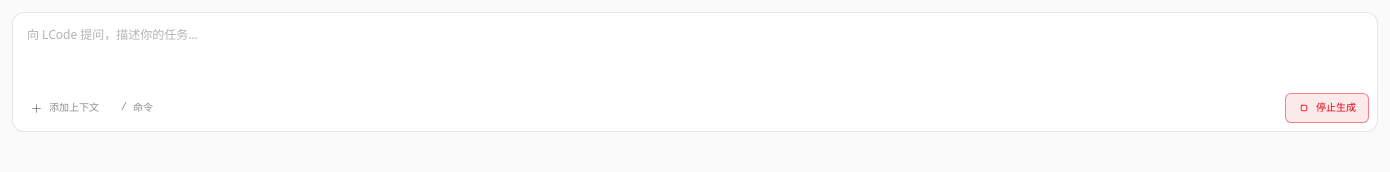
Composer · 发送与停止（AC-001-1/2/4） › 停止返回 RUN_NOT_ACTIVE：提示「该运行已结束」并收敛回可输入态，不误报停止失败（F12）
Step 1. Click the button with test id "composer-stop" → (1327, 108), box x1=1285 y1=93 x2=1369 y2=123
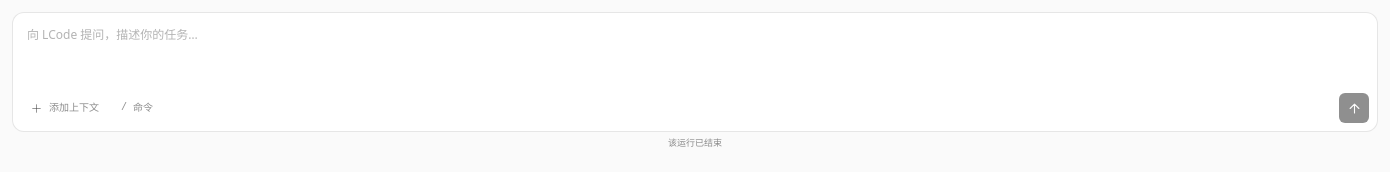
Expected: the text with test id "composer-hint" does not show "停止失败", x1=668 y1=136 x2=722 y2=149
Result: the text with test id "composer-hint" reads "该运行已结束" at x1=668 y1=136 x2=722 y2=149
Result: the button with test id "composer-send" is shown at x1=1339 y1=93 x2=1369 y2=123
